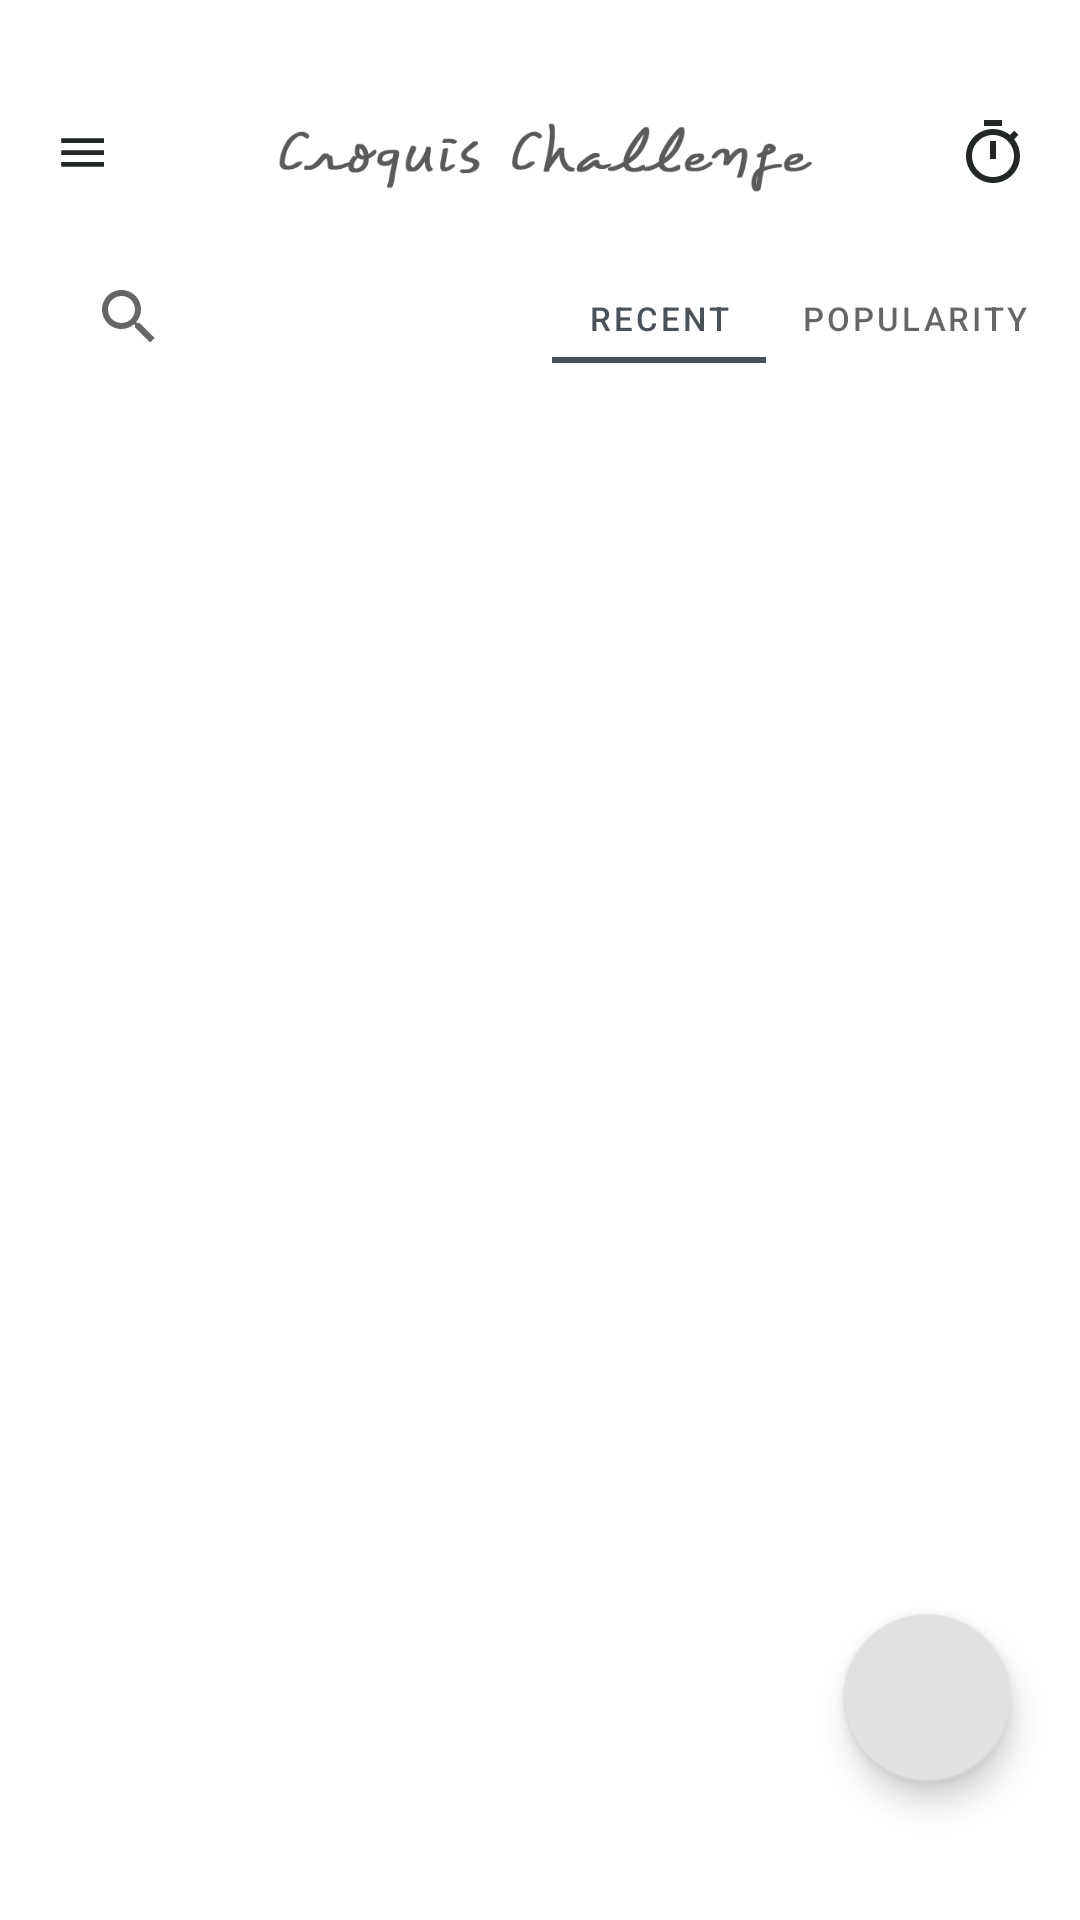

Point at icon controls on the screen. Image size 1080 × 1920, points as (x,y).
menu: (82,152)
timer: (993,151)
